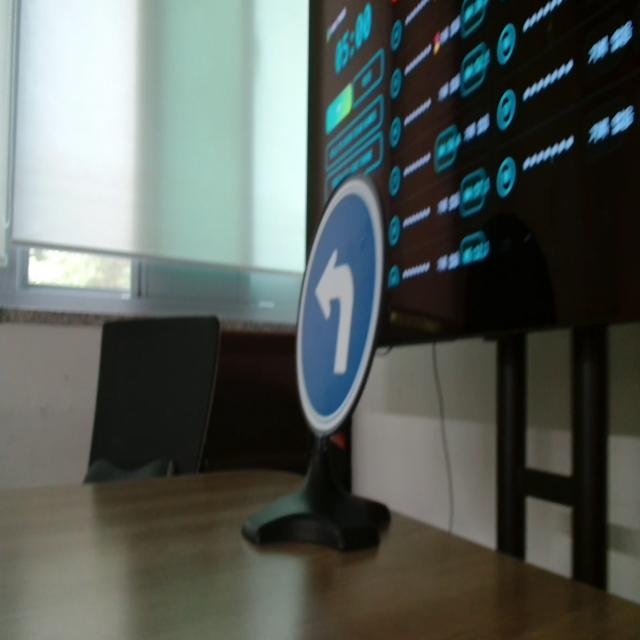left_direction: (290, 177, 406, 437)
